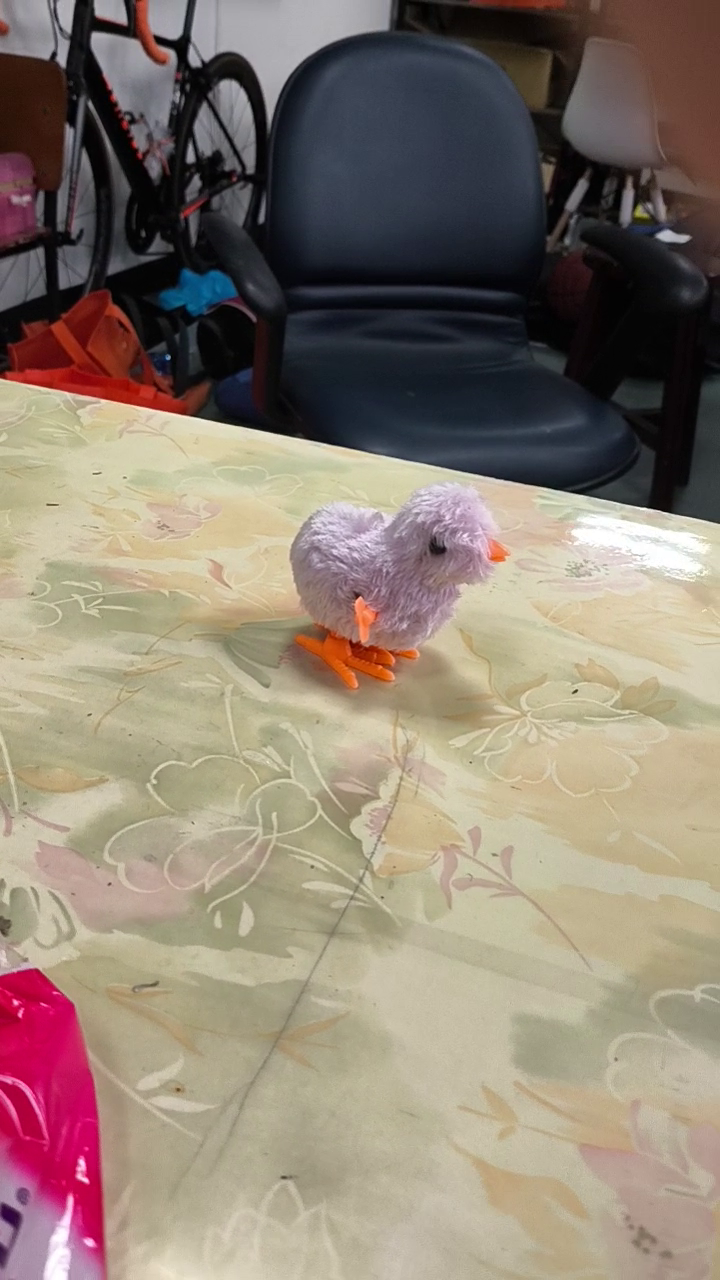pink chicken: (287, 478, 515, 693)
